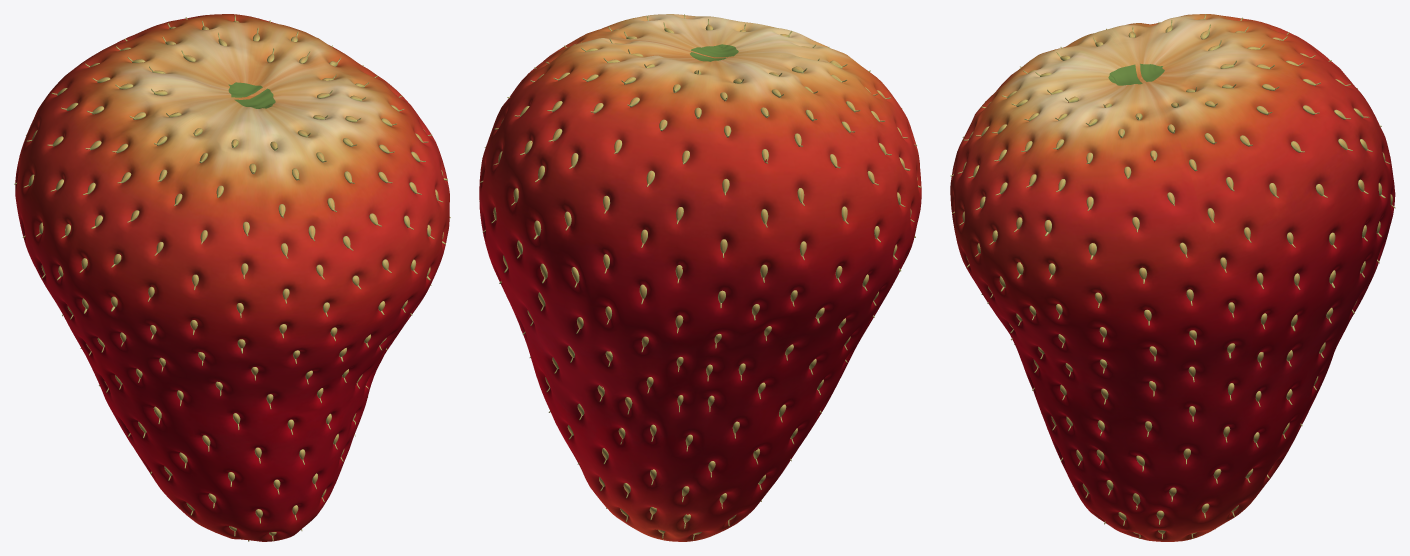
The model's file is strawberry.obj.
The picture shows the model from 3 angles, left to right: view 1: azimuth 30°, elevation 25°; view 2: azimuth 150°, elevation 25°; view 3: azimuth 270°, elevation 25°; orthographic projection. The views are drawn at different scales.
Parts seen in each view (by area): view 1: obj1, obj2.020, obj2.022, obj2.021, obj2.025, obj2.083, obj2.016, obj2.043; view 2: obj1, obj2.678; view 3: obj1, obj2.883.
Boxes of the visible parts, bbox=[...] form: obj1: bbox=[15, 14, 449, 541]; obj2.020: bbox=[189, 396, 249, 481]; obj2.022: bbox=[229, 458, 304, 534]; obj2.021: bbox=[120, 271, 191, 340]; obj2.025: bbox=[72, 204, 119, 264]; obj2.083: bbox=[120, 402, 168, 444]; obj2.016: bbox=[186, 273, 242, 314]; obj2.043: bbox=[165, 193, 210, 265]; obj1: bbox=[479, 14, 921, 541]; obj2.678: bbox=[719, 340, 757, 362]; obj1: bbox=[950, 14, 1395, 541]; obj2.883: bbox=[1299, 229, 1339, 270].
Size of the model in its own units: 0.3281 by 0.4042 by 0.3437.
1 material, 1 textured.
